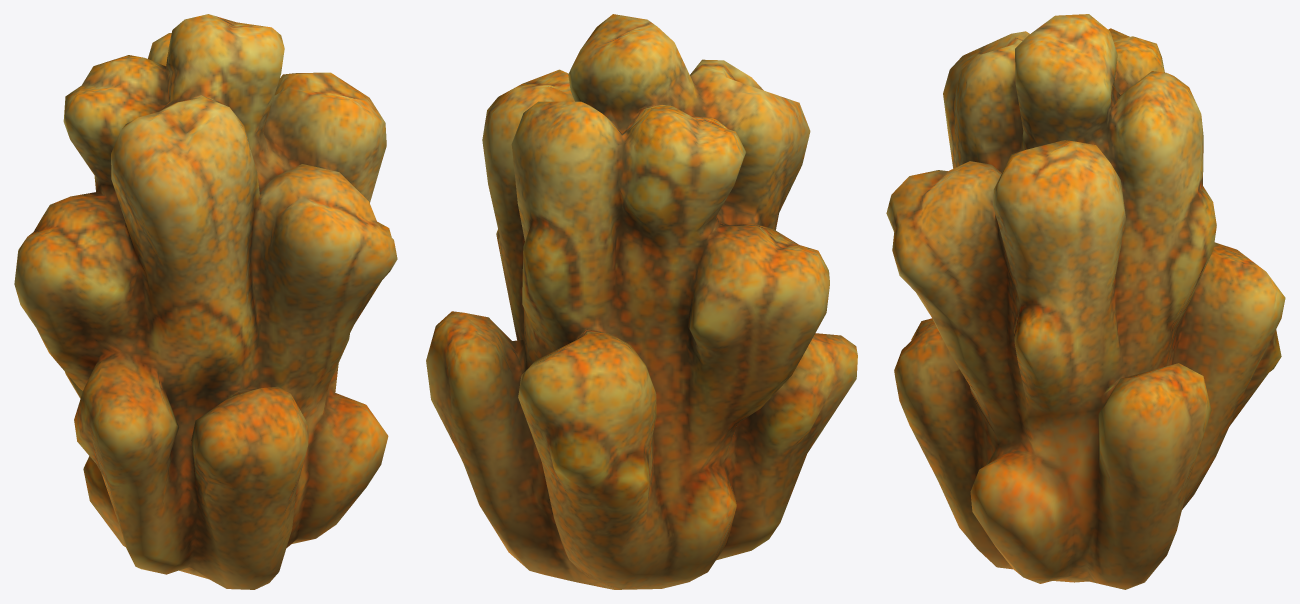
The model's file is Coral10.fbx.
3 views of the same model, side by side, from view 1: azimuth 30°, elevation 25°; view 2: azimuth 150°, elevation 25°; view 3: azimuth 270°, elevation 25° (orthographic).
Visible parts, largest first — view 1: Coral1_2; view 2: Coral1_2; view 3: Coral1_2.
Boxes of the visible parts, x1,y1,x2,y2 form: Coral1_2: (14,14,397,589); Coral1_2: (426,14,857,589); Coral1_2: (886,14,1285,589).
Size of the model in its own units: 72.06 by 106 by 69.76.
